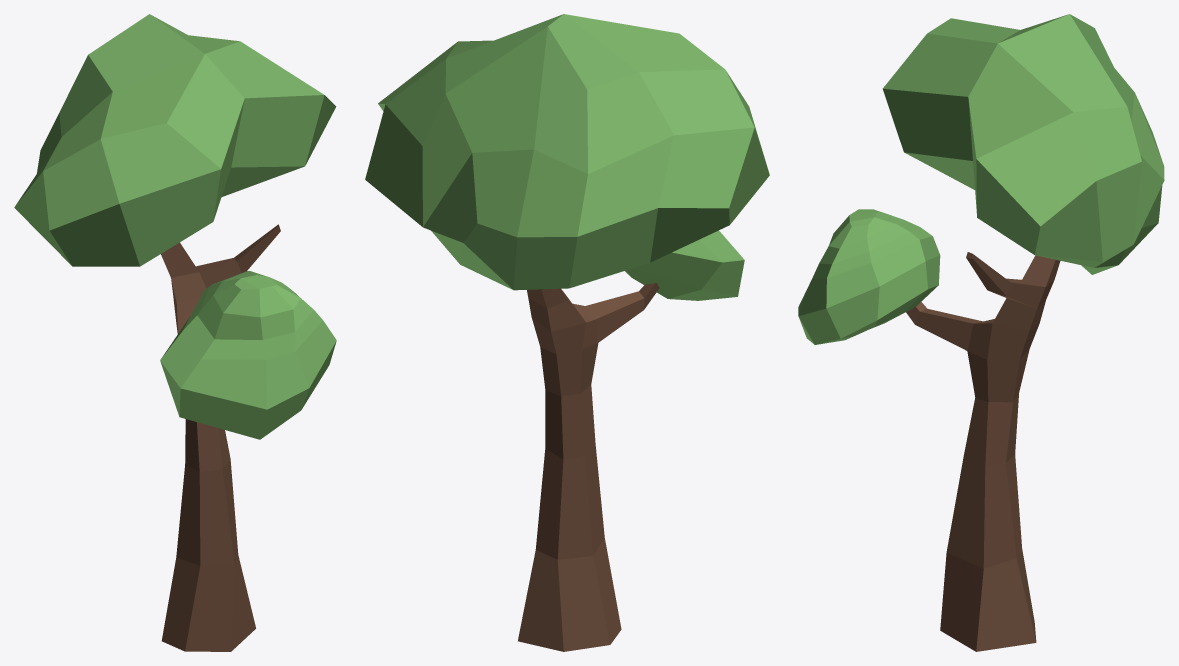
Rendered from Backyard_Tree.fbx.
3 views of the same model, side by side, from view 1: azimuth 30°, elevation 25°; view 2: azimuth 150°, elevation 25°; view 3: azimuth 270°, elevation 25° (orthographic). The views are drawn at different scales.
Visible parts, largest first — view 1: Backyard_Tree; view 2: Backyard_Tree; view 3: Backyard_Tree.
Boxes of the visible parts, bbox=[...] form: Backyard_Tree: bbox=[14, 14, 336, 651]; Backyard_Tree: bbox=[365, 14, 769, 651]; Backyard_Tree: bbox=[798, 14, 1164, 651].
Size of the model in its own units: 234 by 408 by 223.
